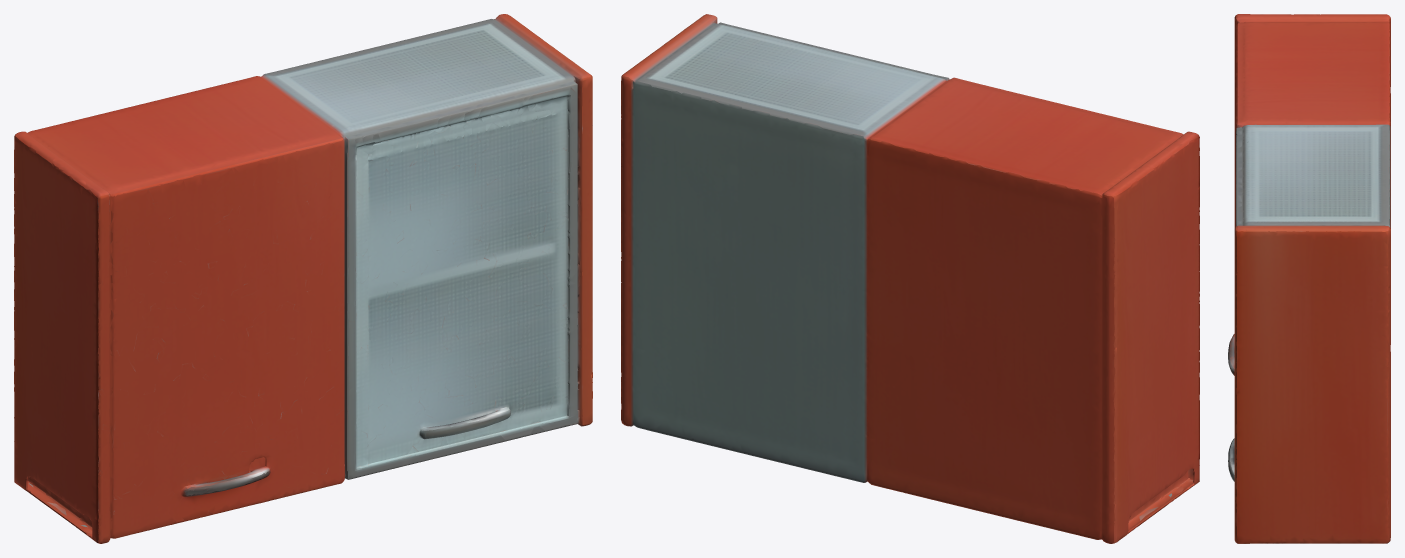
Rendered from item_ba56ec1f.glb.
The picture shows the model from 3 angles, left to right: view 1: azimuth 30°, elevation 25°; view 2: azimuth 150°, elevation 25°; view 3: azimuth 270°, elevation 25°; orthographic projection. The views are drawn at different scales.
Visible parts, largest first — view 1: geometry_0; view 2: geometry_0; view 3: geometry_0.
Part boxes in pixels (box(x1,y1,x2,y2)): geometry_0: box(14, 14, 592, 543); geometry_0: box(621, 14, 1199, 543); geometry_0: box(1228, 14, 1390, 543).
Bounding box in the file's own units: 0.8 × 0.5411 × 0.2531.
Materials: 1 (1 with a texture image).
